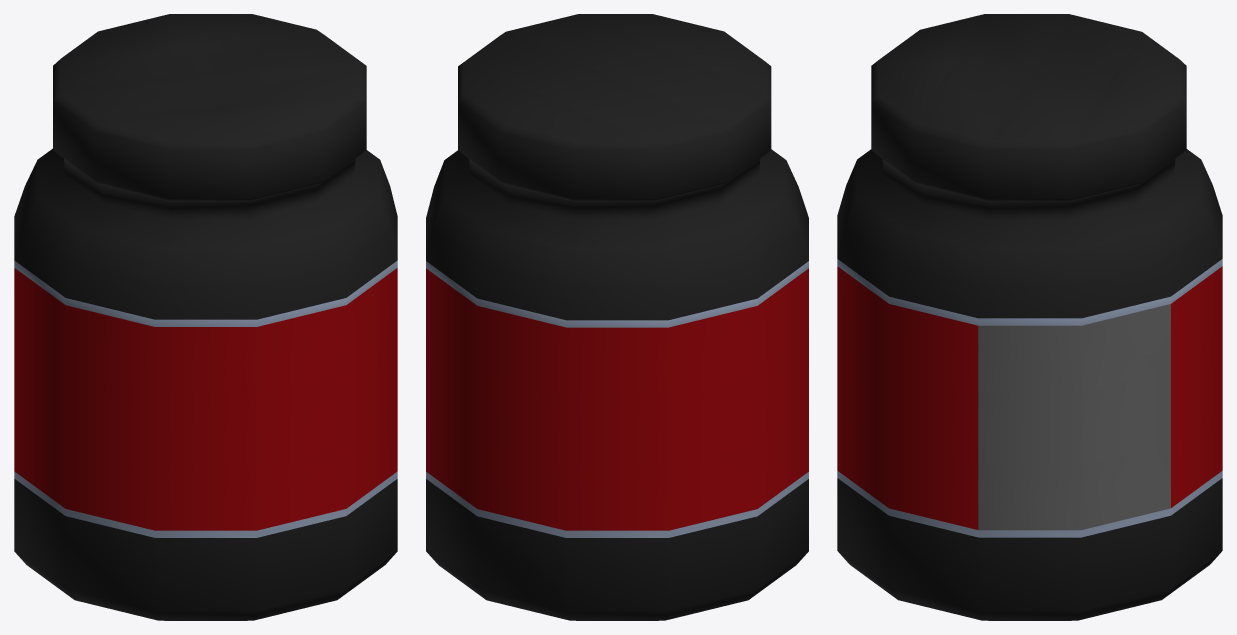
The model's file is WheyProtein.fbx.
The picture shows the model from 3 angles, left to right: view 1: azimuth 30°, elevation 25°; view 2: azimuth 150°, elevation 25°; view 3: azimuth 270°, elevation 25°; orthographic projection.
Parts seen in each view (by area): view 1: WheyProtein; view 2: WheyProtein; view 3: WheyProtein.
Boxes of the visible parts, left/top/right/bottom form: WheyProtein: left=14, top=14, right=397, bottom=620; WheyProtein: left=426, top=14, right=808, bottom=620; WheyProtein: left=837, top=14, right=1222, bottom=620.
Bounding box in the file's own units: 24.53 × 34.69 × 24.53.
